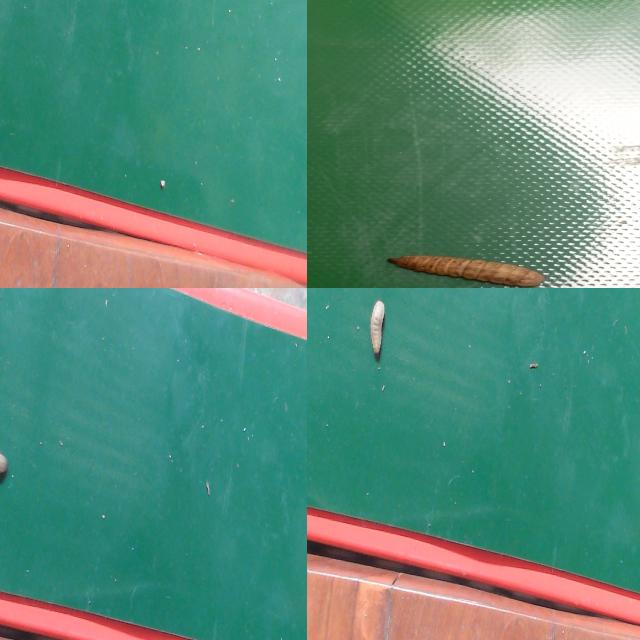Maggot: (388, 256, 546, 288), (366, 301, 387, 360), (0, 452, 11, 486)
